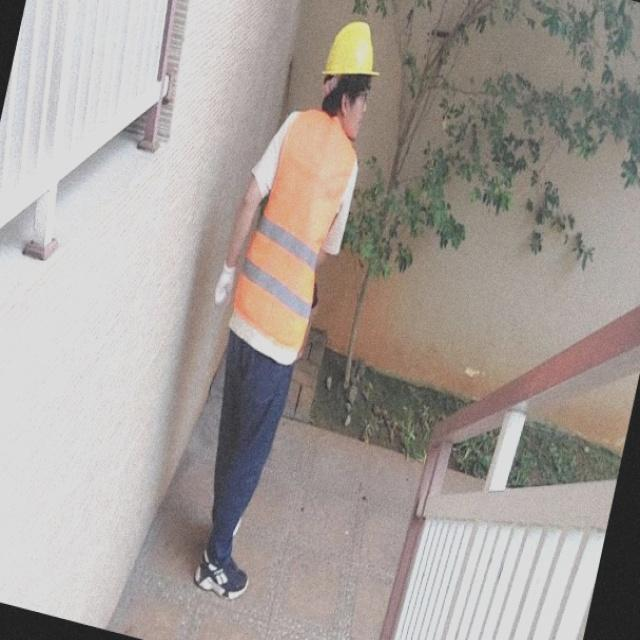helmet: (322, 20, 379, 78)
safety_vest: (236, 106, 364, 356)
